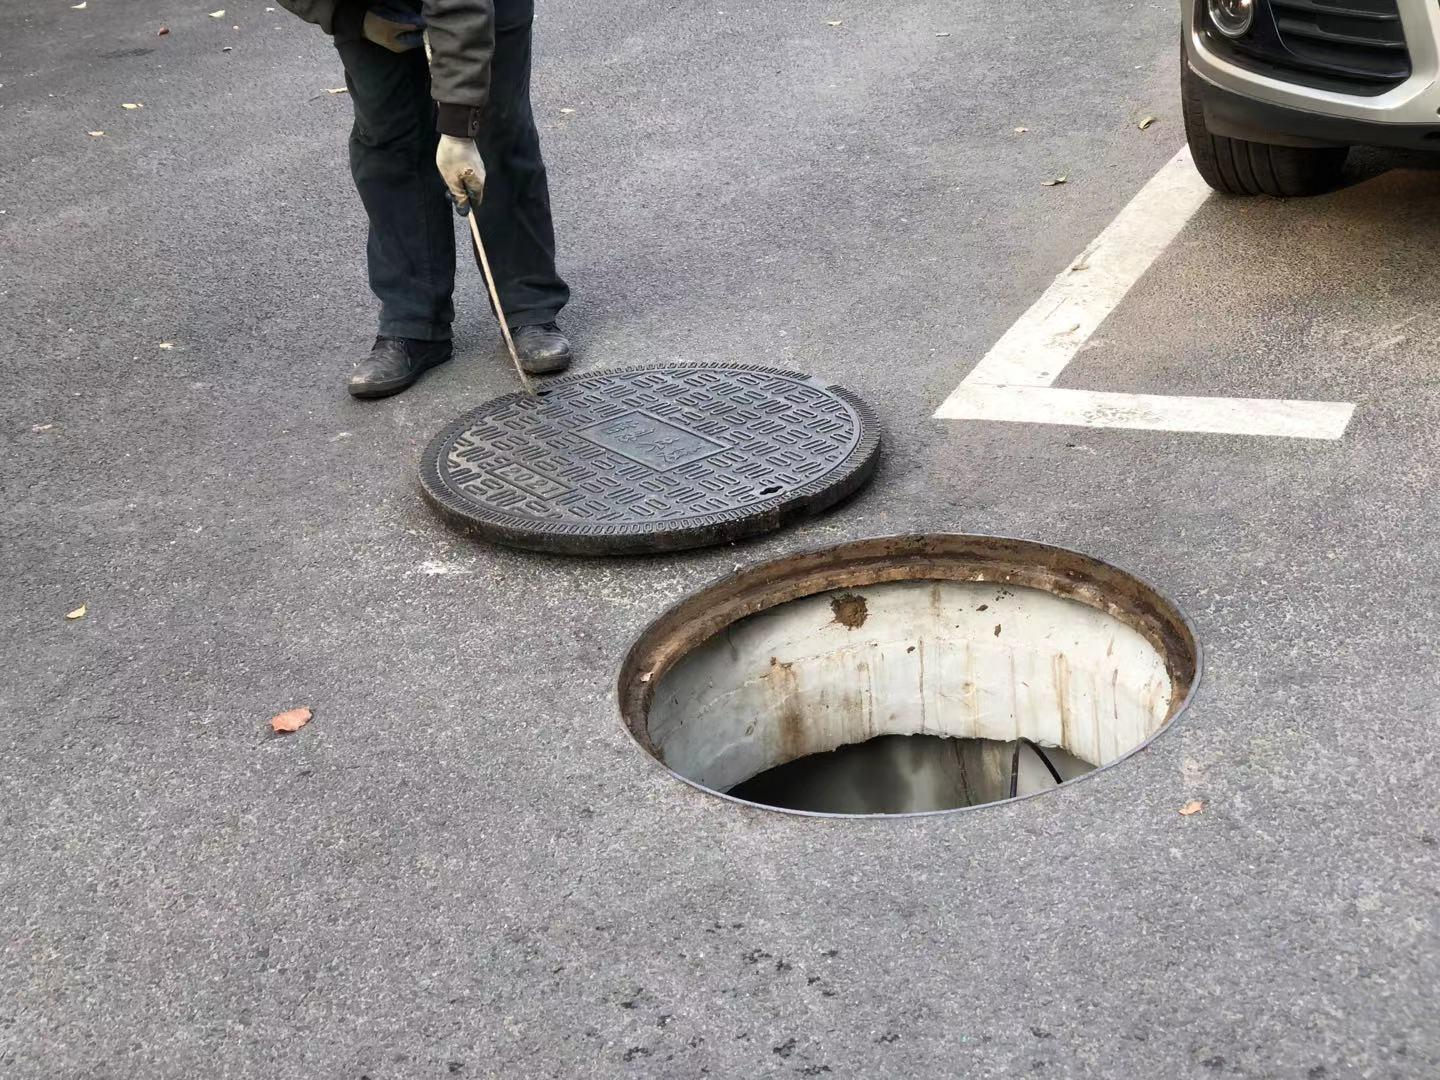wellcover: (407, 343, 1230, 884)
